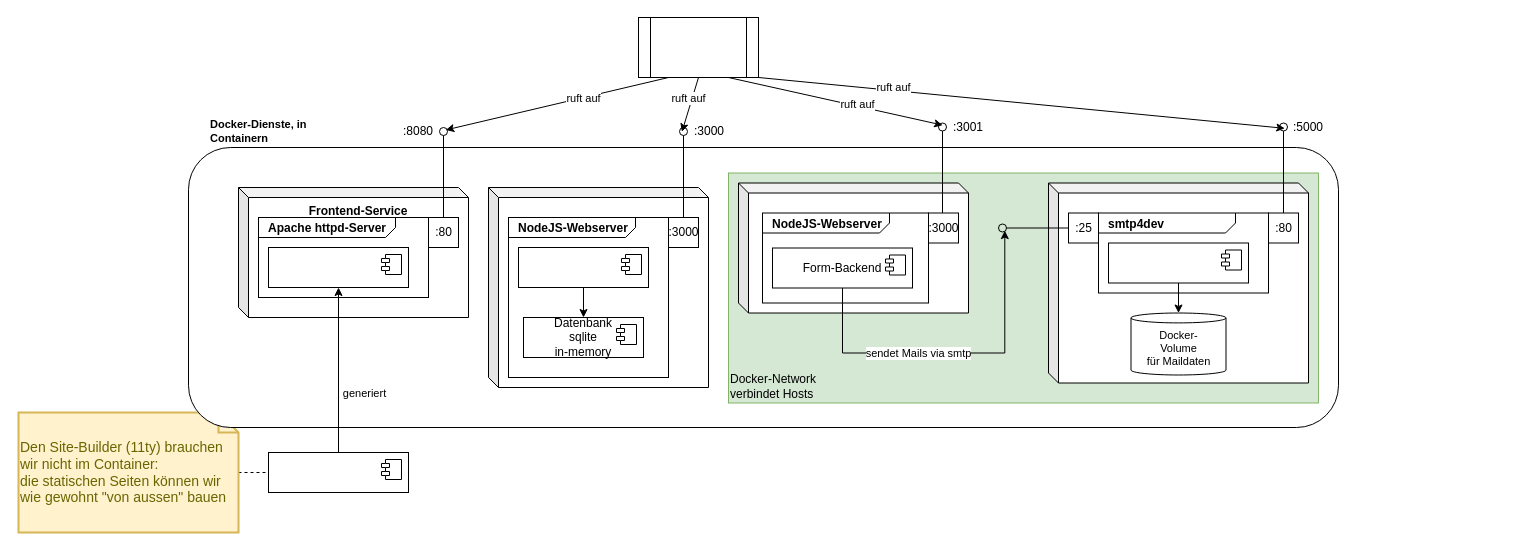
Some shapes in this 1525 by 551 pixel diagram are drawn without their labels. Each missing label, with the box of its shape:
Client Browser: (638, 16, 758, 78)
Demo-/Text- API: (518, 246, 648, 288)
Feedback-Dienst: (738, 182, 968, 313)
Mail-Service: (1048, 182, 1308, 383)
Monolith: (488, 186, 708, 388)
Site-Builder 11ty: (268, 452, 408, 492)
smtp-Server und Web-App: (1108, 242, 1248, 283)
statische Seiten: (268, 246, 408, 288)
